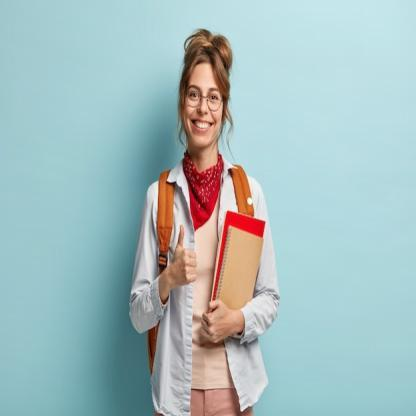thumb_up: (169, 223, 199, 286)
